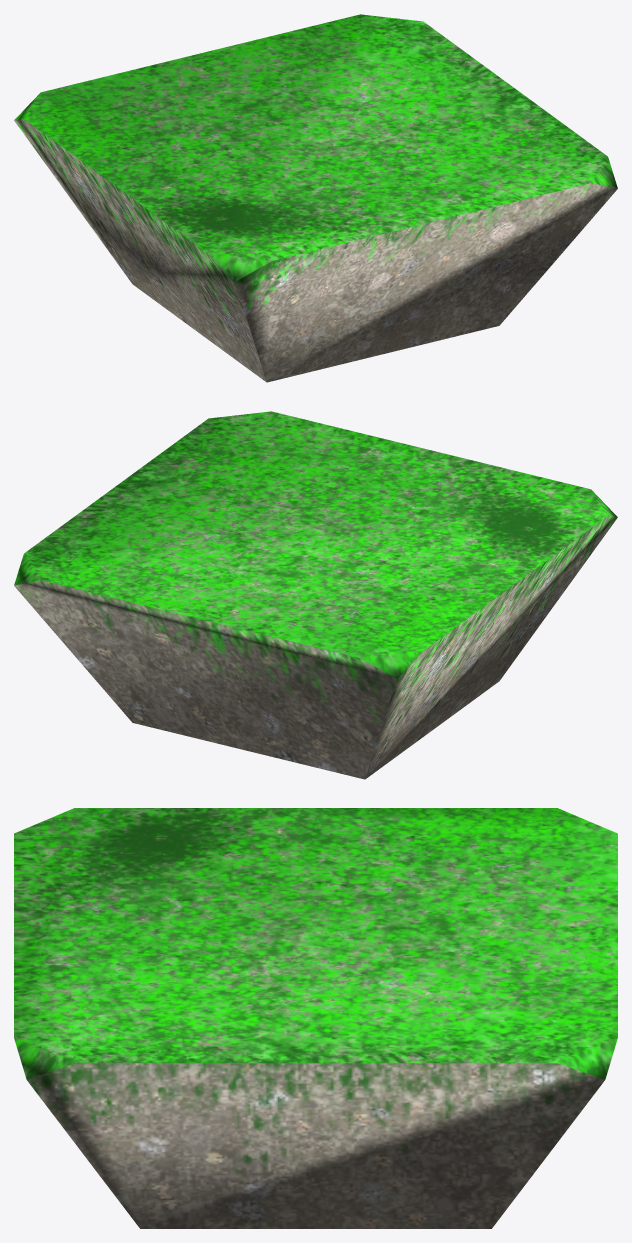
Rendered from field.fbx.
The picture shows the model from 3 angles, top to bottom: view 1: azimuth 30°, elevation 25°; view 2: azimuth 150°, elevation 25°; view 3: azimuth 270°, elevation 25°; orthographic projection. The views are drawn at different scales.
Visible parts, largest first — view 1: pCube1; view 2: pCube1; view 3: pCube1.
Part boxes in pixels (x1,y1,x2,y2): pCube1: (14, 14, 617, 382); pCube1: (14, 411, 617, 779); pCube1: (14, 808, 617, 1228).
Size of the model in its own units: 50 by 20 by 50.
